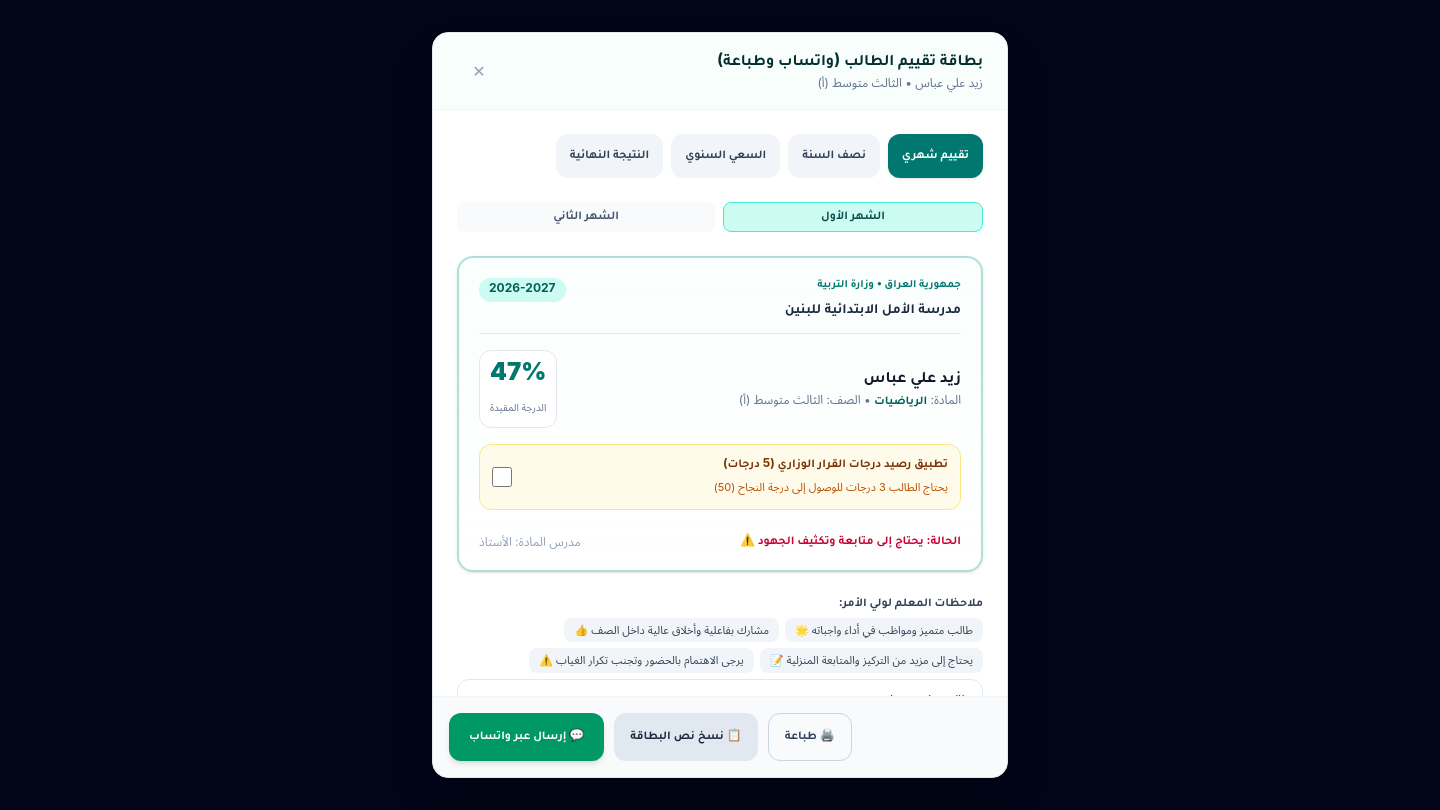
Test: Gradebook Studio Component & Logic Suite › F15: StudentCardModal Interactive Certificate › toggles ministerial decision marks checkbox for borderline failing students (47 -> 50)
Expected: the dialog shows "47%", x1=490 y1=365 x2=546 y2=389
# Check the decision box
Click the checkbox with id "decision-check".
click(502, 477)  # box x1=492 y1=467 x2=512 y2=487
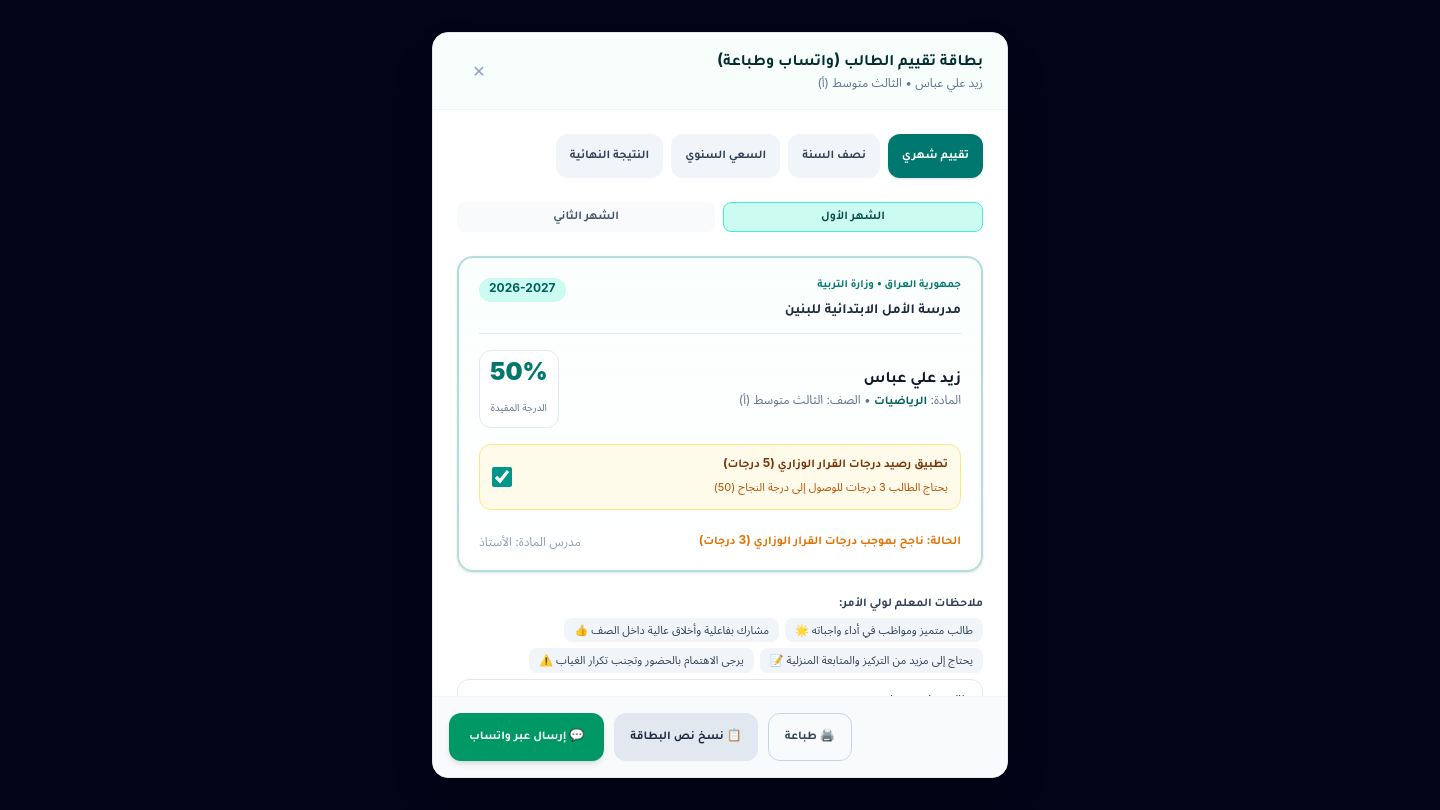
Expected: the dialog shows "50%", x1=490 y1=365 x2=548 y2=389
Expected: the dialog shows "ناجح بموجب درجات القرار الوزاري", x1=699 y1=536 x2=924 y2=548
